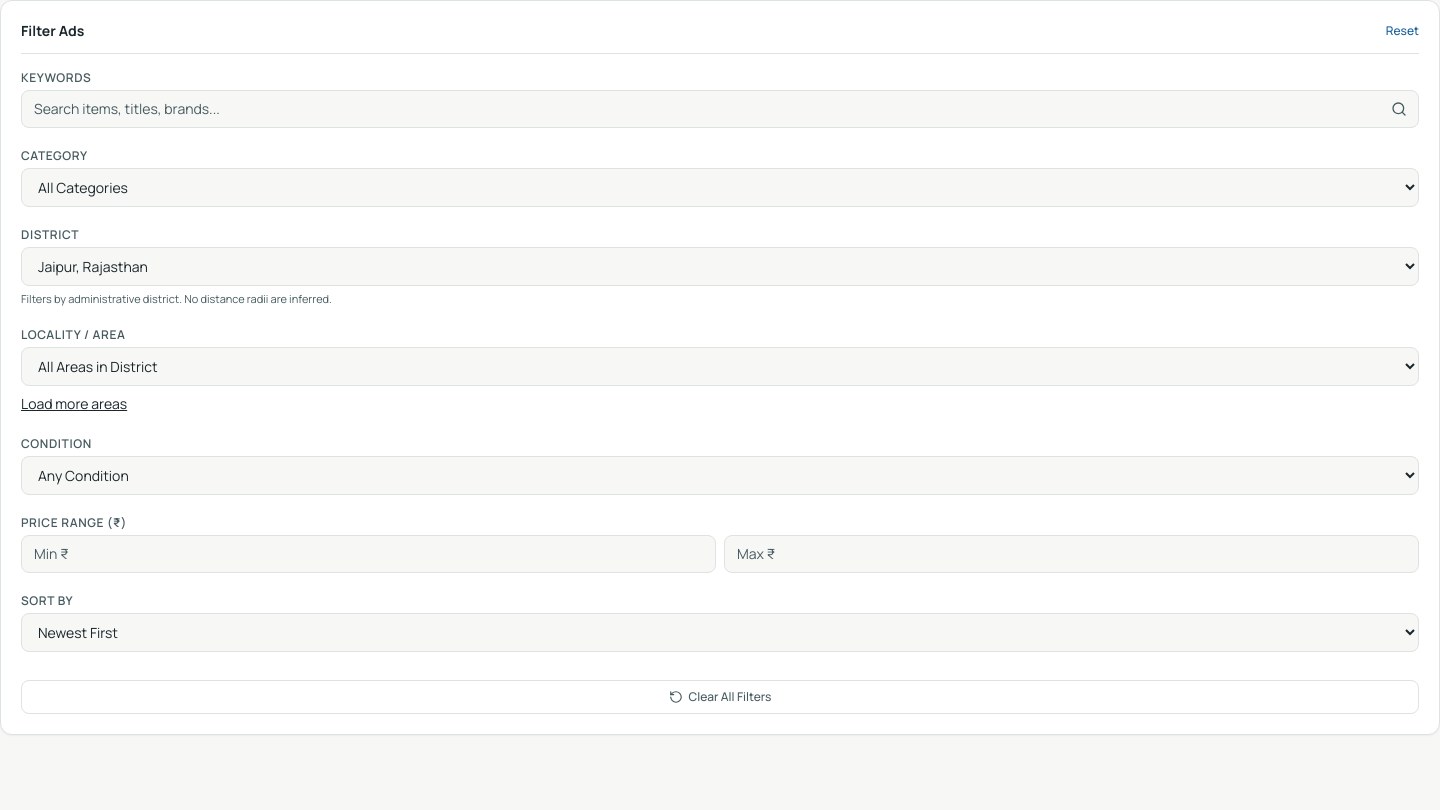
Test case: SRCH-04: Active Filter Chips & Search Filters Integration › SRCH-04 locality and navigation regressions › loads additional pages only on demand, preserving prior options
Click the button "Load more areas". click: (74, 404)
box: x1=21 y1=394 x2=127 y2=414
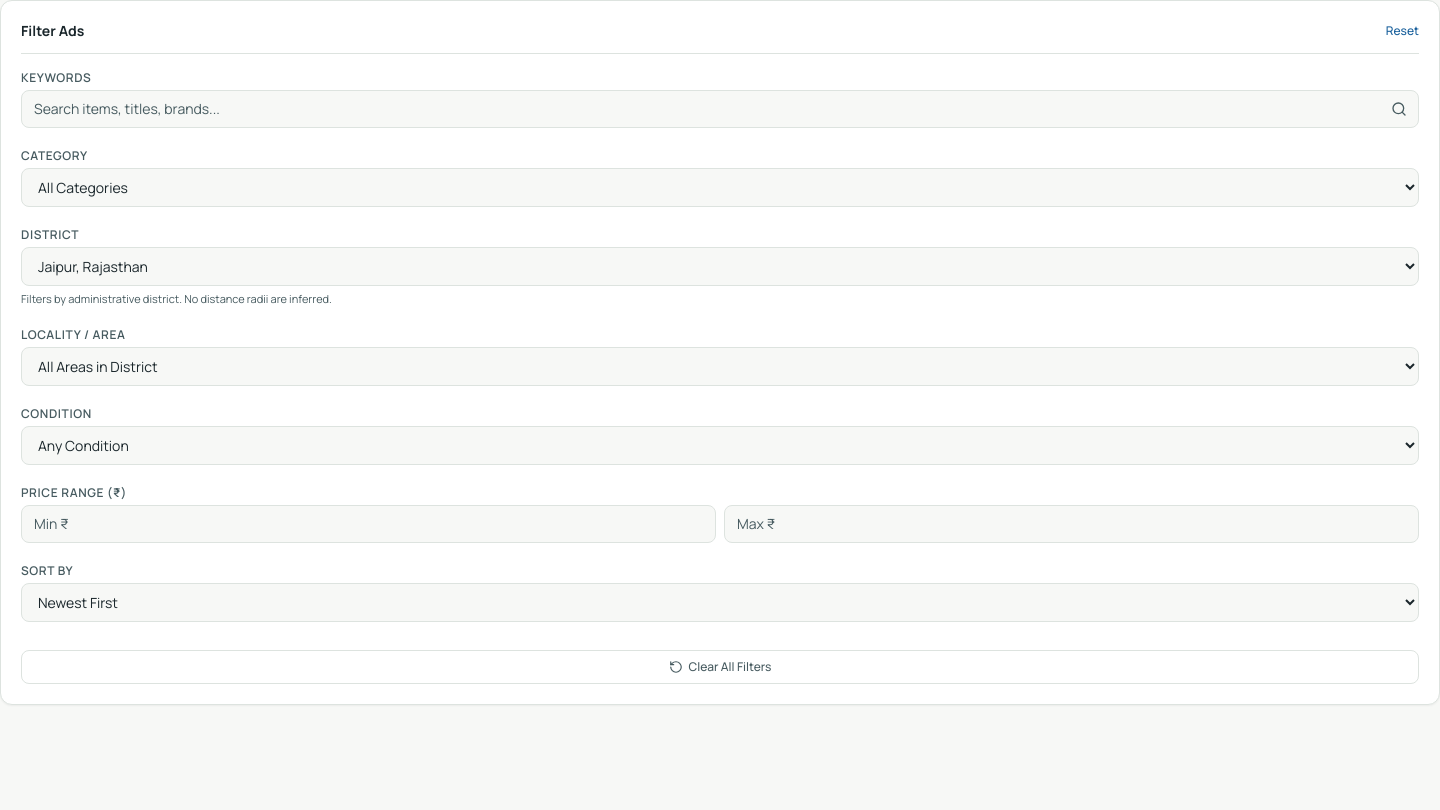
Result: the button "Load more areas" is gone
